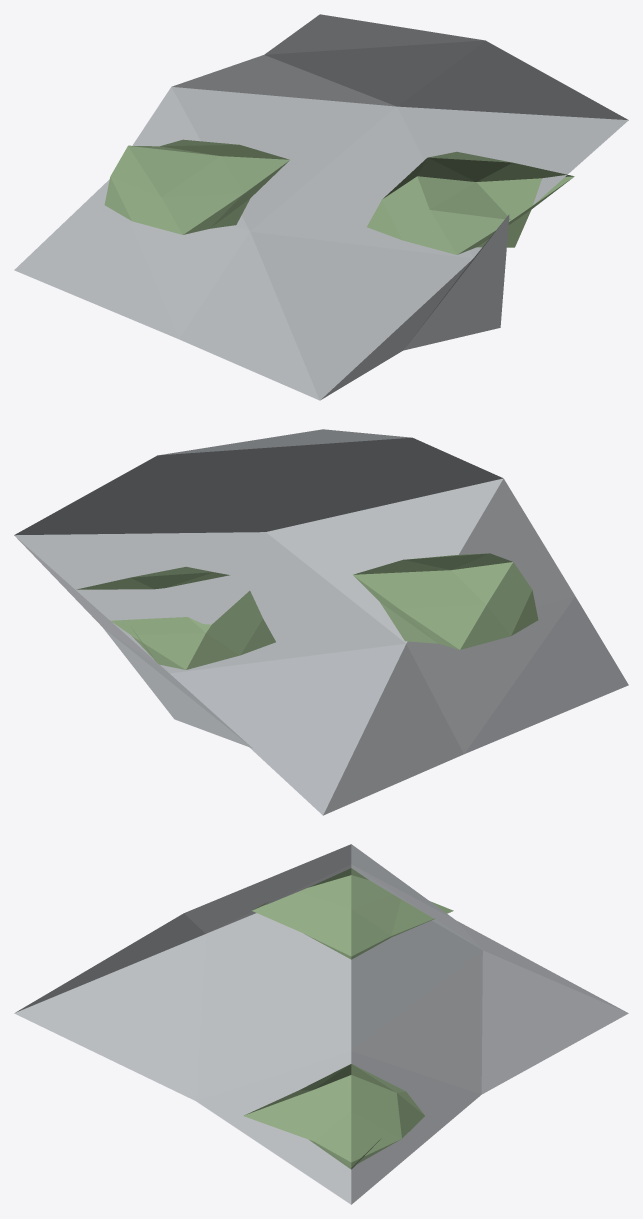
The model's file is moss_rock_v18.glb.
3 views of the same model, one above another, from view 1: azimuth 30°, elevation 25°; view 2: azimuth 150°, elevation 25°; view 3: azimuth 270°, elevation 25° (orthographic). The views are drawn at different scales.
Visible parts, largest first — view 1: lod0; view 2: lod0; view 3: lod0.
Boxes of the visible parts, x1,y1,x2,y2 form: lod0: (14,14,628,400); lod0: (14,429,628,815); lod0: (14,844,628,1204).
Size of what is drawn, in the model's own units: 1.46 by 0.8763 by 1.35.
